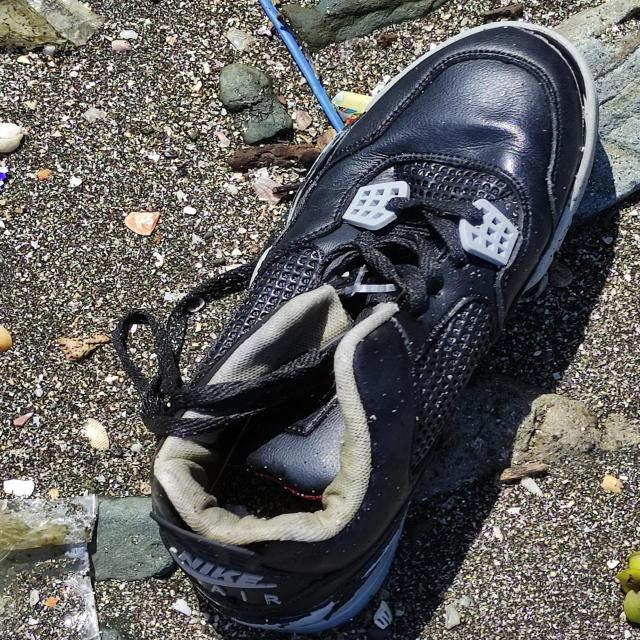plastic_waste: (248, 0, 349, 132)
rubber_waste: (144, 19, 624, 640)
